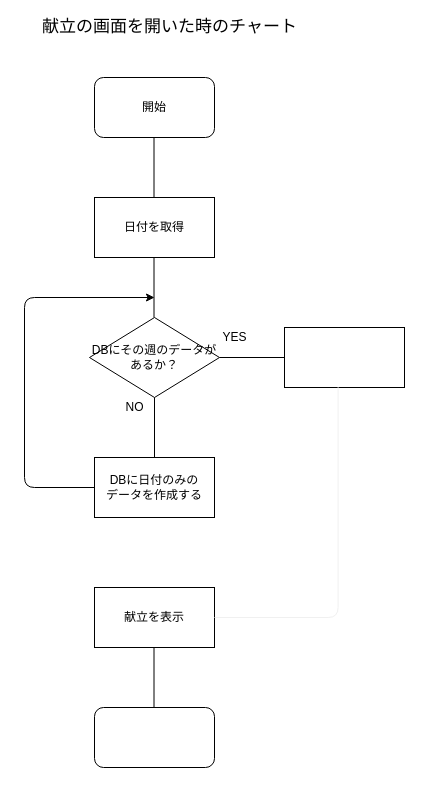
This 422x785 diagram has some shape labels left out. Each missing label, with the box of its shape:
DBからデータを取得: (284, 326, 404, 388)
終了: (94, 706, 214, 768)
